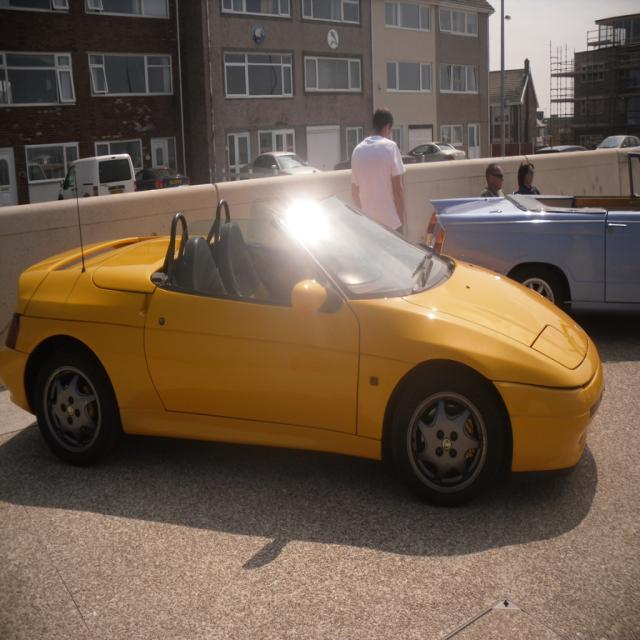car: (0, 179, 609, 508)
